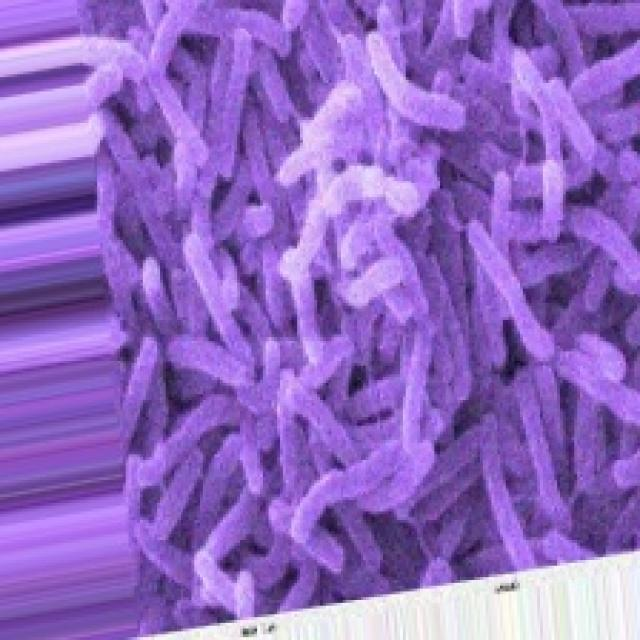Rod_bacteria: (69, 0, 637, 637)
